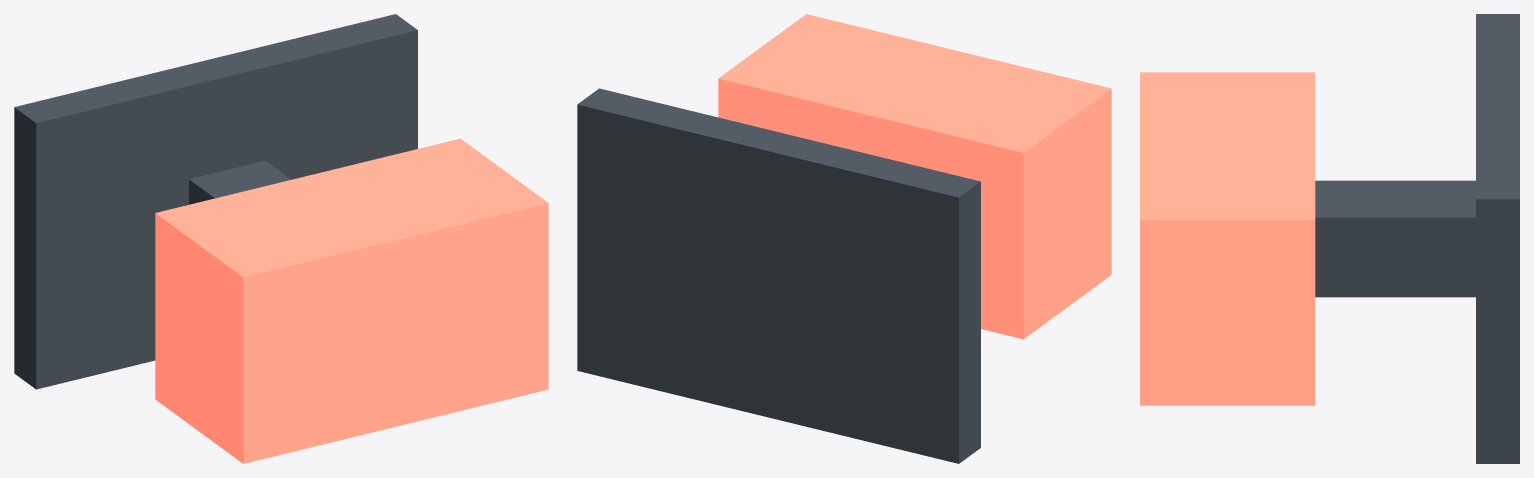
Rendered from warning_light.glb.
3 views of the same model, side by side, from view 1: azimuth 30°, elevation 25°; view 2: azimuth 150°, elevation 25°; view 3: azimuth 270°, elevation 25° (orthographic).
Parts seen in each view (by area): view 1: warning_light; view 2: warning_light; view 3: warning_light.
Boxes of the visible parts, x1,y1,x2,y2 form: warning_light: [14, 14, 548, 463]; warning_light: [577, 14, 1111, 463]; warning_light: [1140, 14, 1519, 463].
Size of the model in its own units: 0.3 by 0.2 by 0.26.
